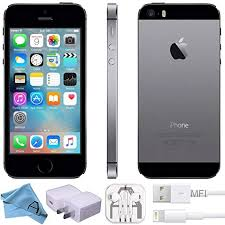iphone: (135, 1, 225, 181), (3, 1, 87, 181)
iphone5: (134, 1, 224, 180), (3, 1, 87, 182)
